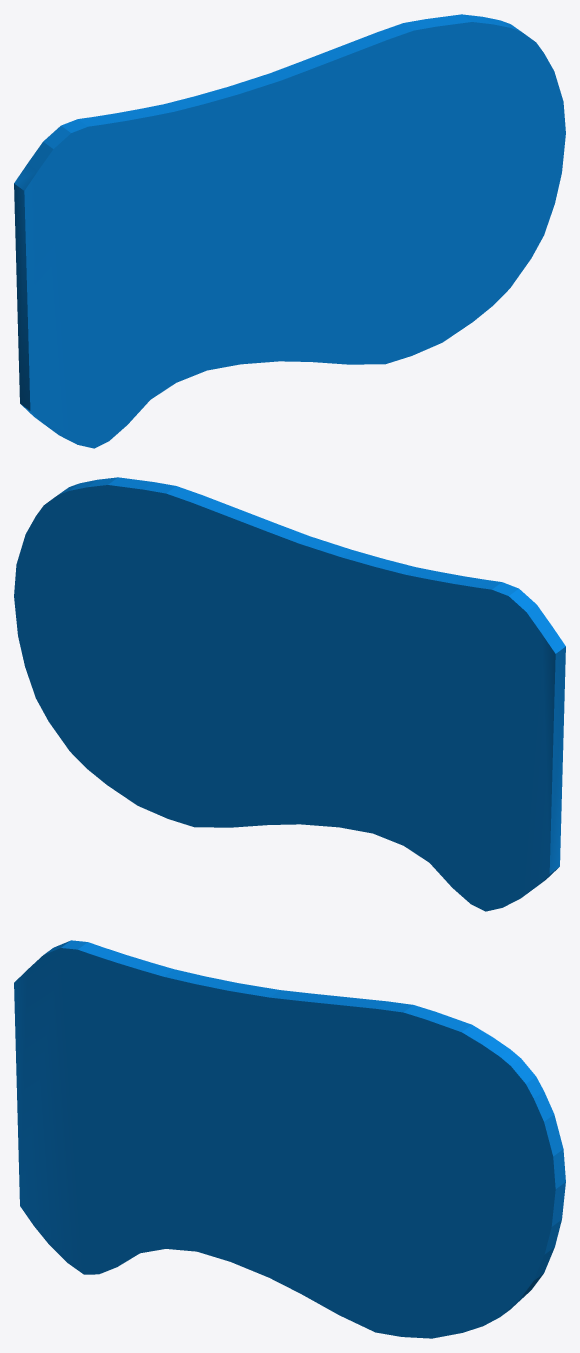
Rendered from right_foot.glb.
The picture shows the model from 3 angles, top to bottom: view 1: azimuth 30°, elevation 25°; view 2: azimuth 150°, elevation 25°; view 3: azimuth 330°, elevation 25°; orthographic projection.
Parts seen in each view (by area): view 1: RightFoot; view 2: RightFoot; view 3: RightFoot.
Part boxes in pixels (x1,y1,x2,y2): RightFoot: [14, 14, 565, 448]; RightFoot: [14, 477, 565, 911]; RightFoot: [14, 940, 565, 1338].
Size of the model in its own units: 0.1508 by 0.0905 by 0.005.
